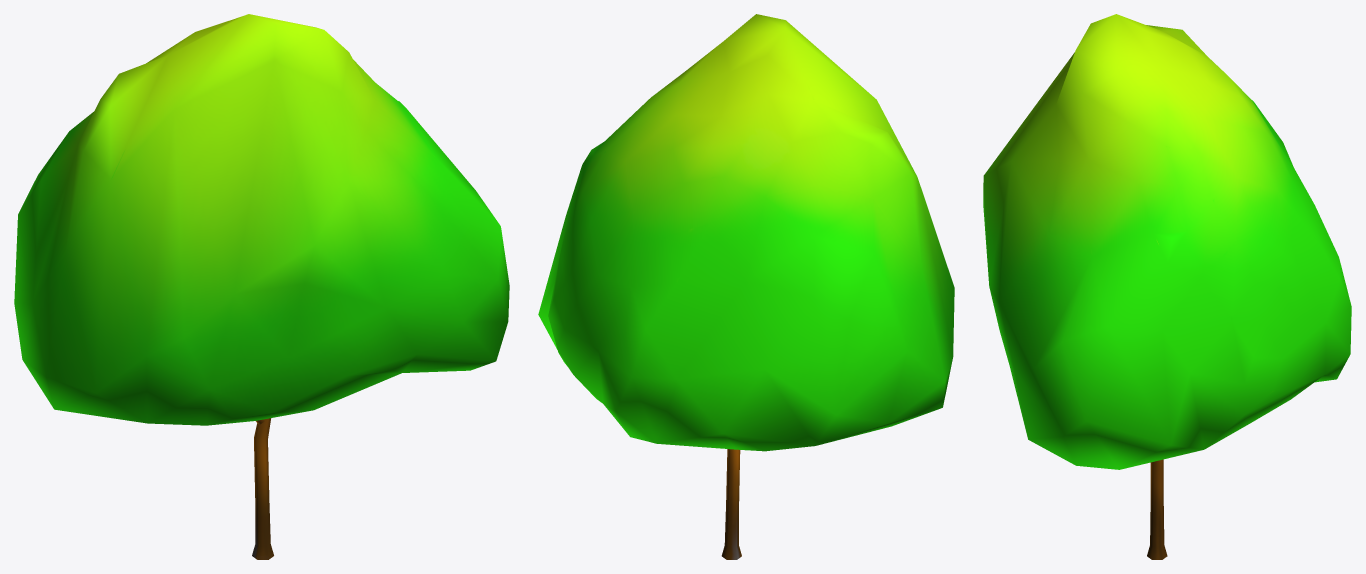
File: TreeStyle3Blue_06.fbx
The picture shows the model from 3 angles, left to right: view 1: azimuth 30°, elevation 25°; view 2: azimuth 150°, elevation 25°; view 3: azimuth 270°, elevation 25°; orthographic projection. The views are drawn at different scales.
Visible parts, largest first — view 1: TreeStyle3_06; view 2: TreeStyle3_06; view 3: TreeStyle3_06.
Part boxes in pixels (x1=…): TreeStyle3_06: x1=14, y1=14, x2=509, y2=559; TreeStyle3_06: x1=538, y1=14, x2=954, y2=559; TreeStyle3_06: x1=983, y1=14, x2=1351, y2=559.
Size of the model in its own units: 802 by 1003 by 637.
